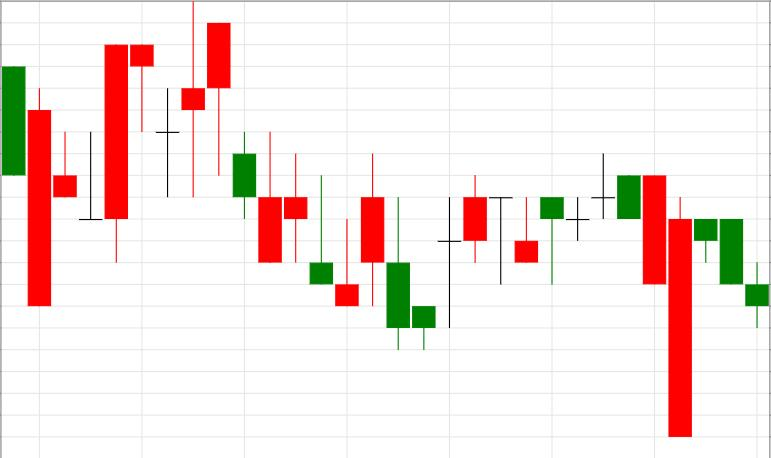inverse_hammer_rise: (208, 23, 359, 307), (208, 21, 333, 284)
